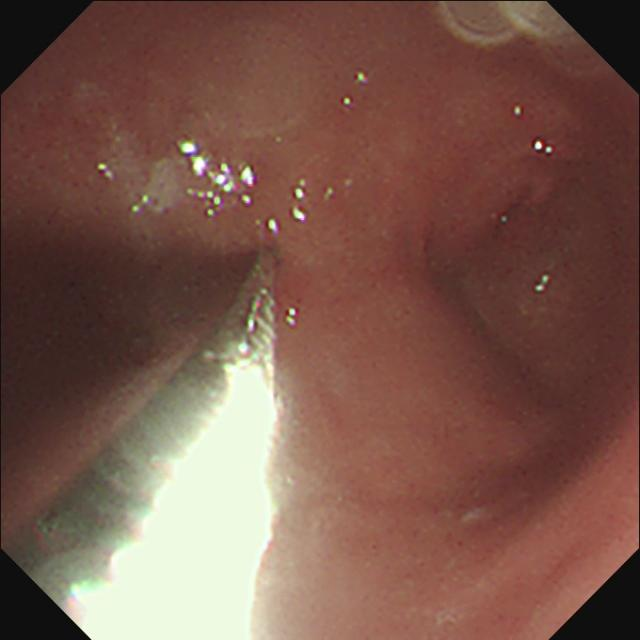K: (9, 244, 285, 640)
U: (178, 138, 256, 222), (292, 180, 308, 224), (534, 142, 552, 155), (287, 308, 299, 326), (267, 218, 277, 233)
